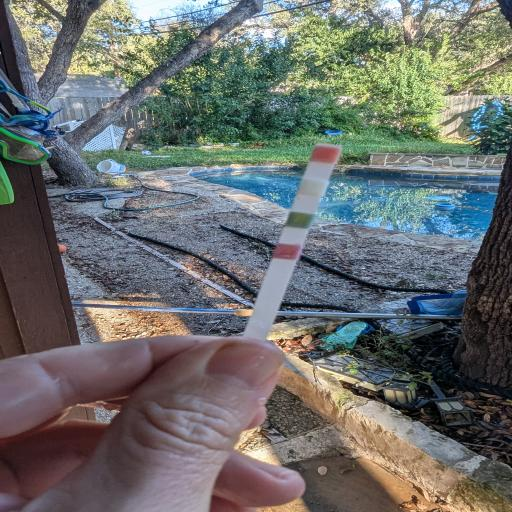strip: (243, 143, 343, 341)
